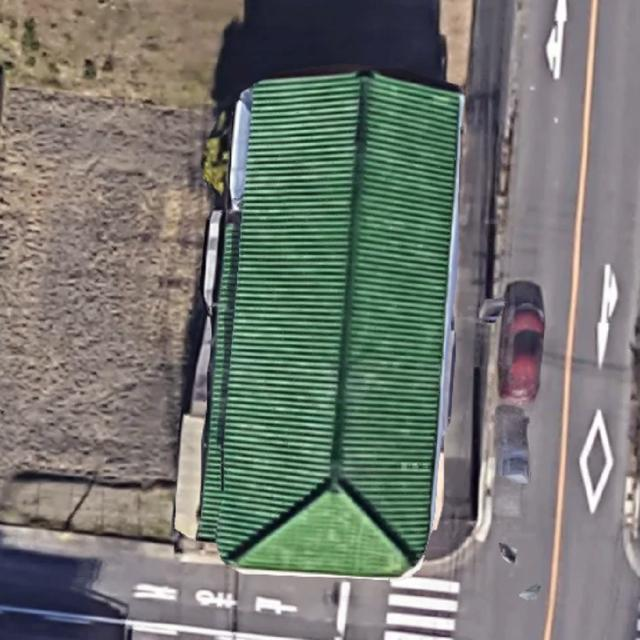Batiment: (199, 71, 462, 576)
